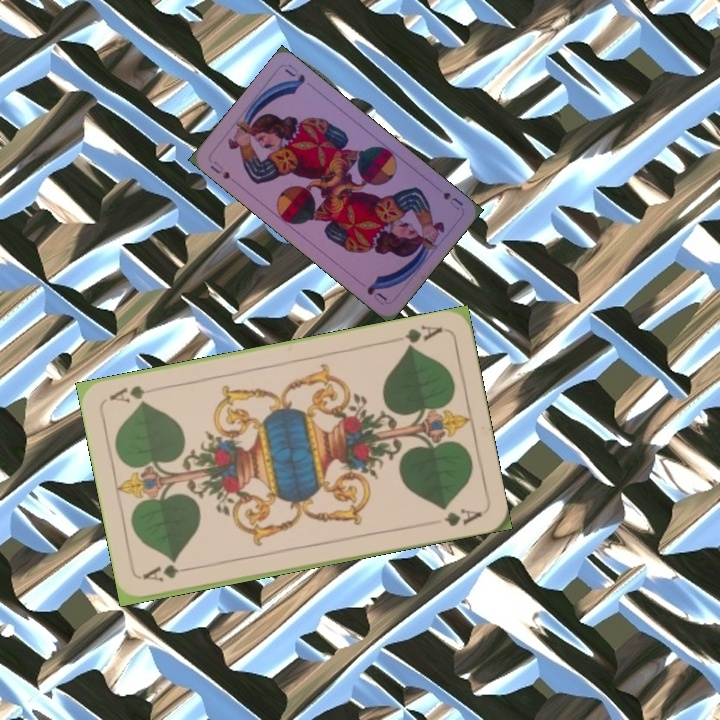GA: (139, 560, 198, 584), (401, 321, 445, 352)
SU: (439, 188, 466, 213), (206, 157, 233, 182)
